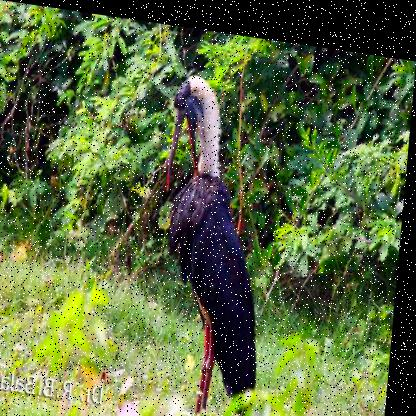Burung: (140, 63, 289, 415)
